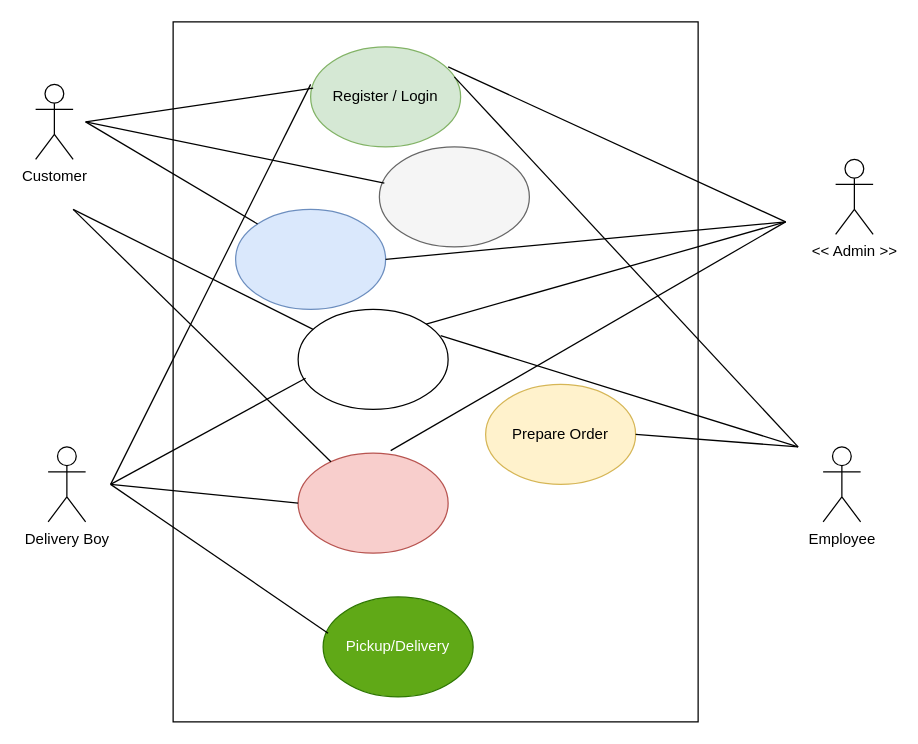
Image size: 918x744. Some labels were removed from this diagram. The shapes that lost their labels are listed below. From the top down, each one's centre as x and y in pixels, then its label:
At pixel 453 196: "Review & Payment".
At pixel 310 258: "Edit Order".
At pixel 372 358: "View / Update status".
At pixel 372 502: "Feedback".
